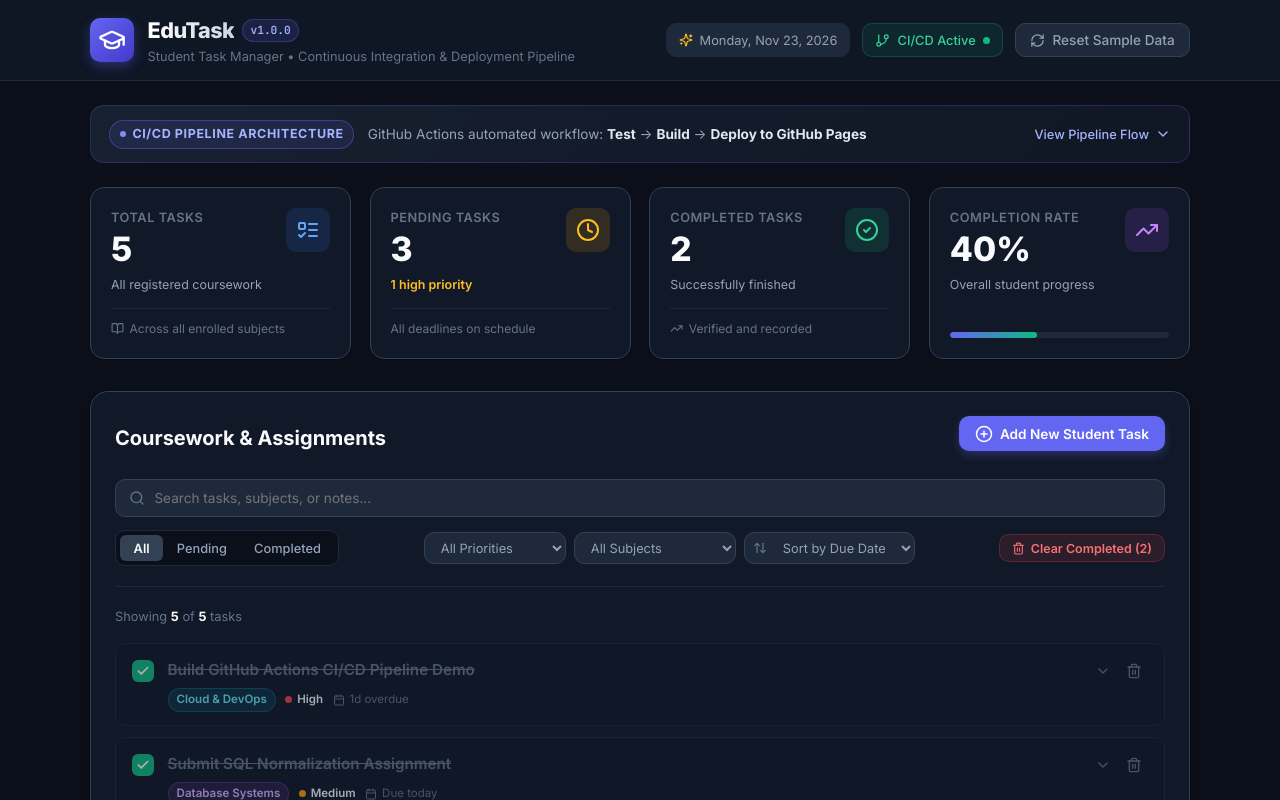
Test: Student Task Manager - App & CI/CD Automated Tests › validates that empty task titles cannot be submitted
Step 1. Click the button "Add New Student Task" → (1062, 434), box left=959, top=416, right=1165, bottom=451
(page scrolled)
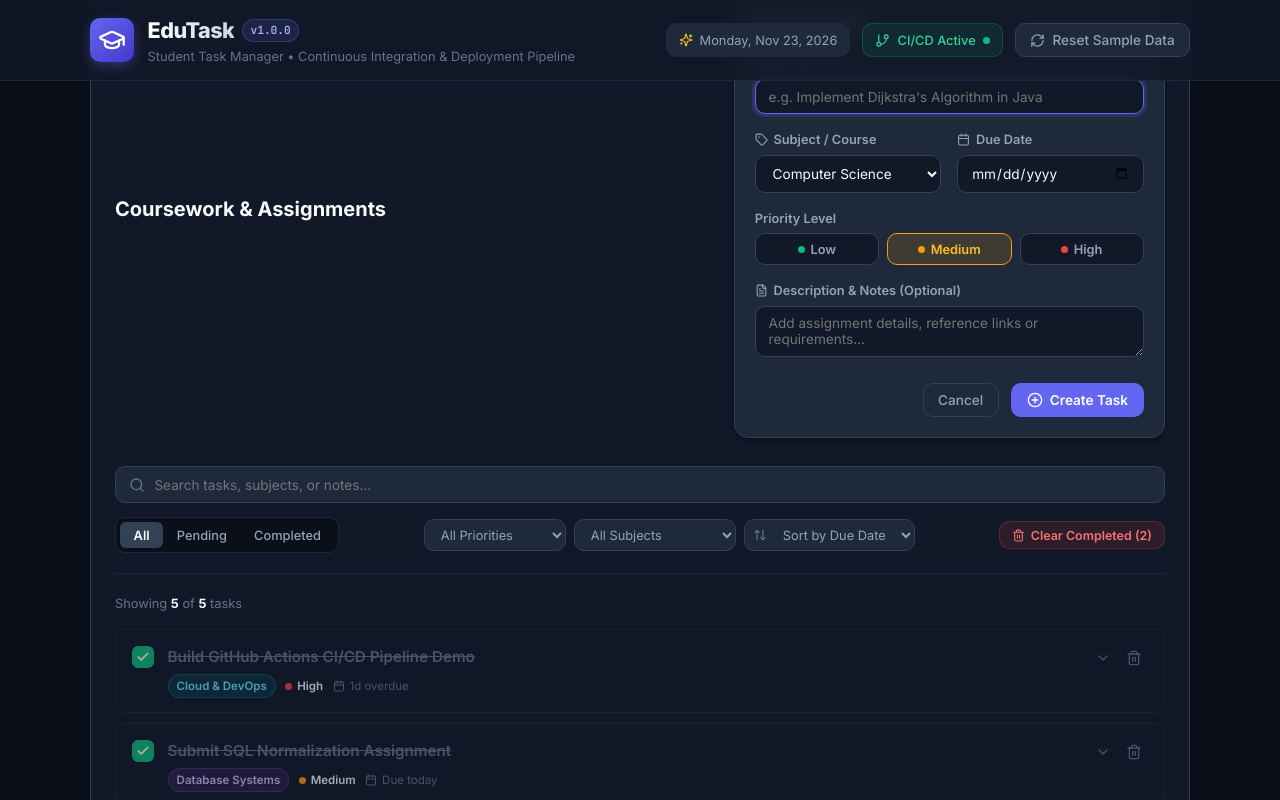
Submit without title
Step 2. Click the button "Create Task" → (1077, 400), box left=1011, top=383, right=1144, bottom=417
(page scrolled)
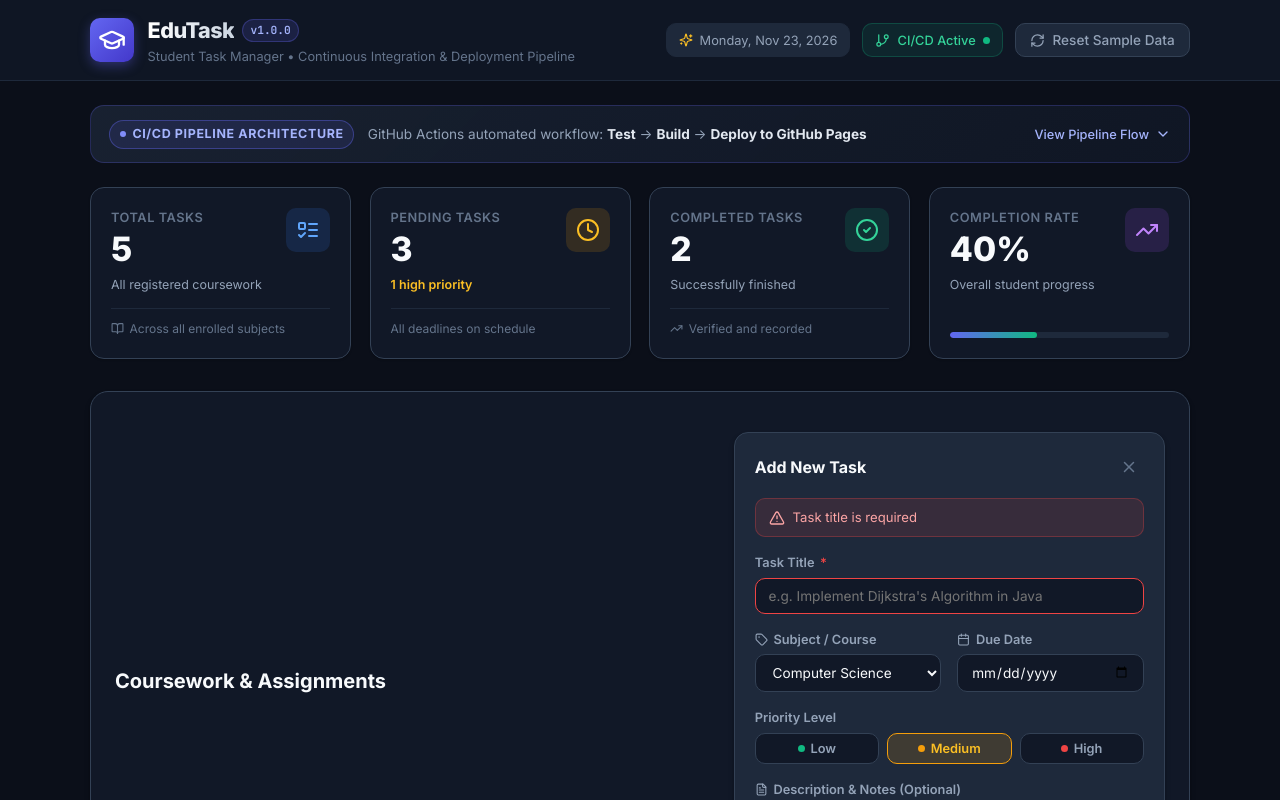
Expected: the heading "5" is shown, left=111, top=228, right=132, bottom=269
Result: the message reads "Task title is required" at left=793, top=509, right=917, bottom=525
